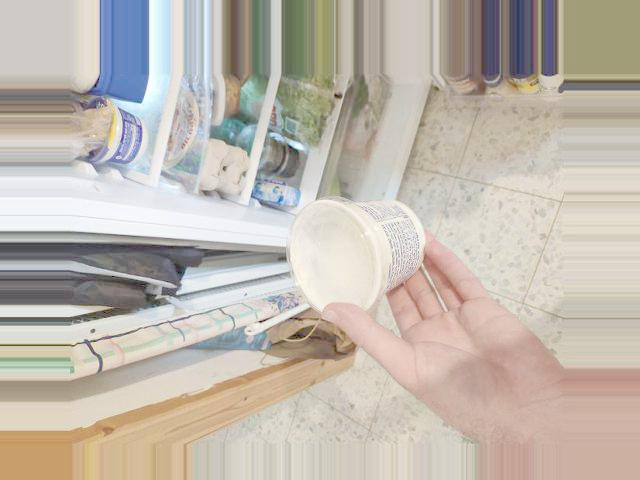cotage: (305, 205, 419, 318)
